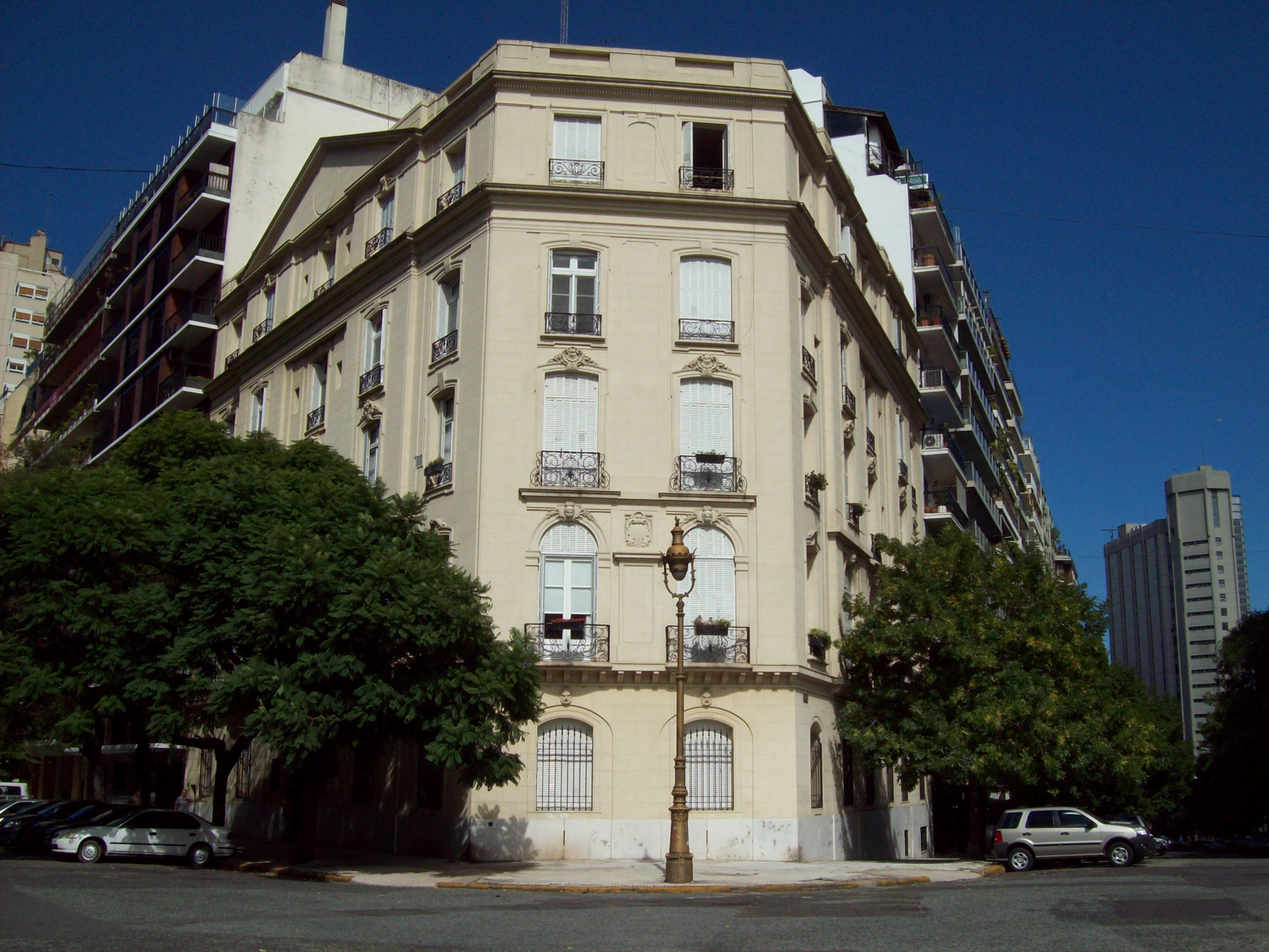fachada: (230, 85, 949, 854), (925, 177, 1105, 606), (34, 124, 225, 465), (1100, 465, 1269, 756), (3, 233, 66, 391)
poste: (650, 526, 719, 881)
